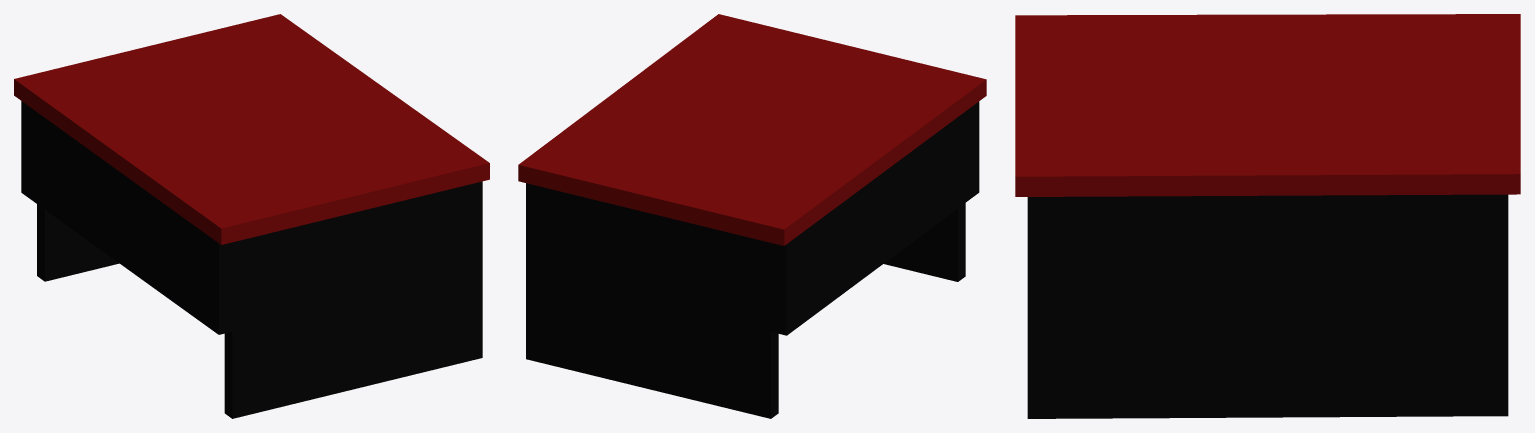
File: House7.FBX
3 renders of one model, left to right at view 1: azimuth 30°, elevation 25°; view 2: azimuth 150°, elevation 25°; view 3: azimuth 270°, elevation 25°, orthographic. The views are drawn at different scales.
Visible parts, largest first — view 1: House7; view 2: House7; view 3: House7.
Part boxes in pixels (x1,y1,x2,y2): House7: [14, 14, 489, 418]; House7: [518, 14, 986, 418]; House7: [1015, 14, 1520, 418].
Bounding box in the file's own units: 1201 × 1576 × 839.
